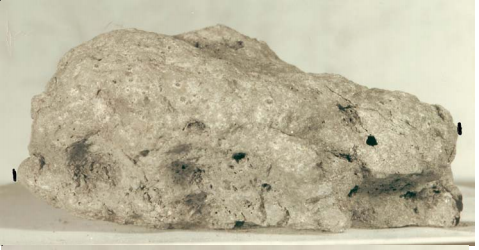Basalt: (34, 36, 457, 224)
